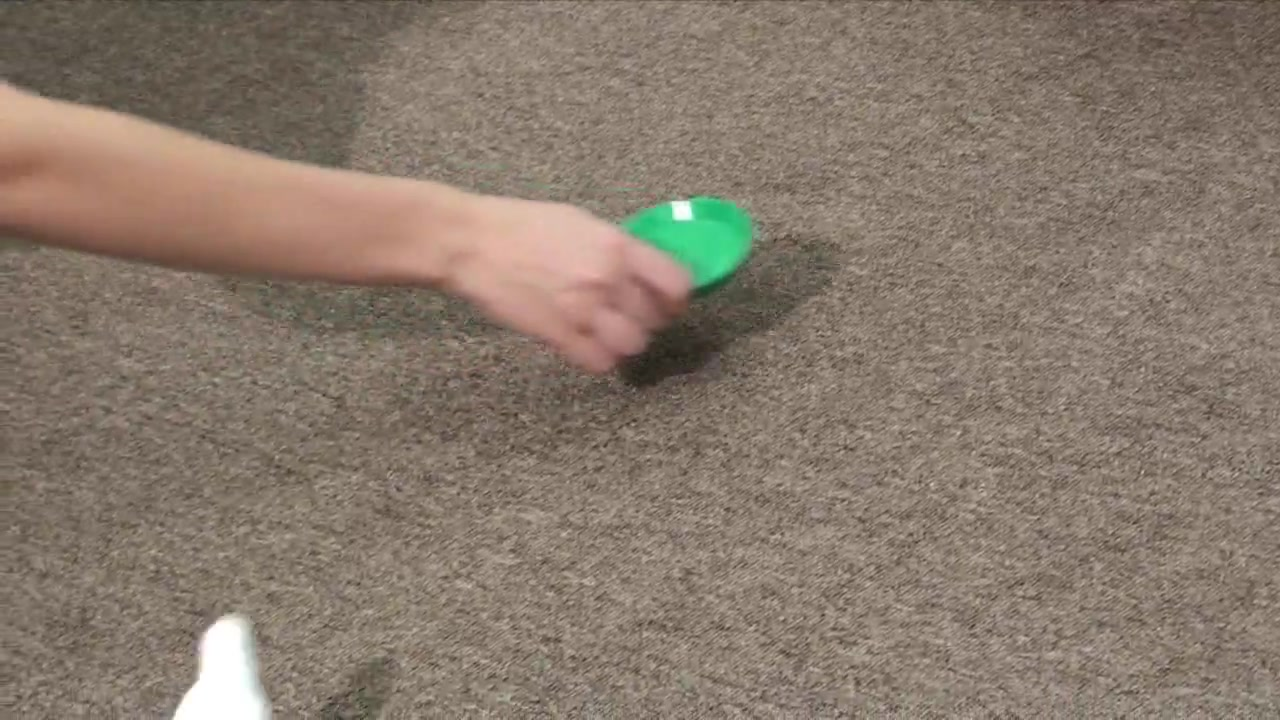bird: (172, 618, 278, 720)
